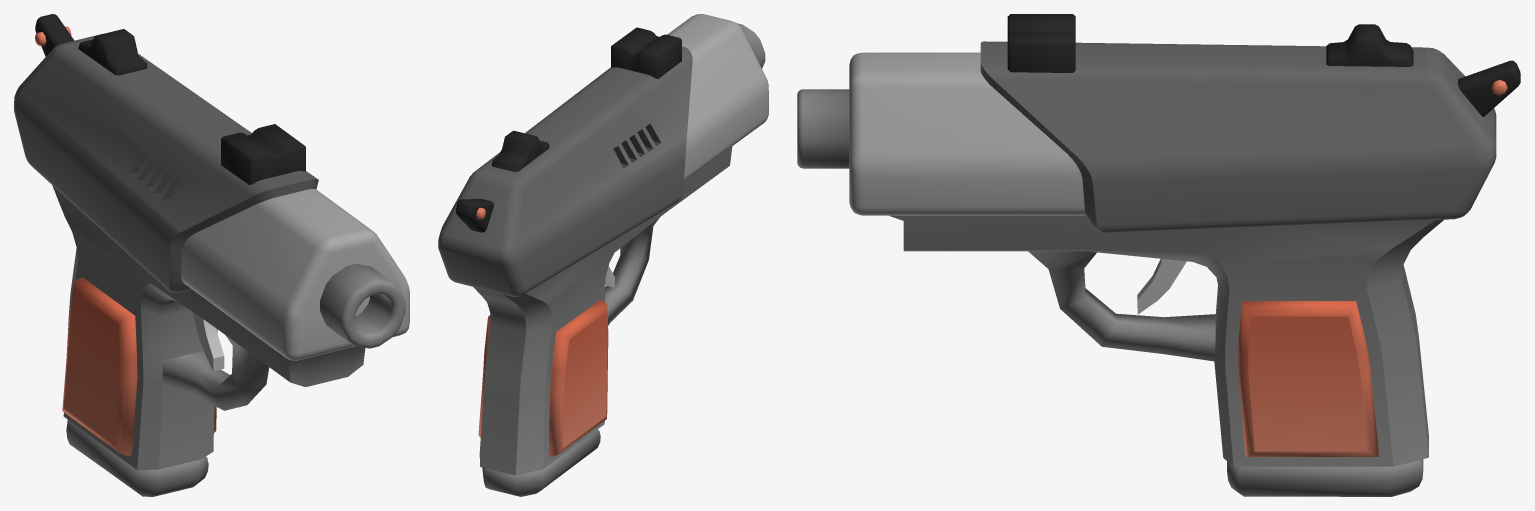
Rendered from Pistol.fbx.
The picture shows the model from 3 angles, left to right: view 1: azimuth 30°, elevation 25°; view 2: azimuth 150°, elevation 25°; view 3: azimuth 270°, elevation 25°; orthographic projection. The views are drawn at different scales.
Visible parts, largest first — view 1: Pistol01, Pistol01.Magazine; view 2: Pistol01, Pistol01.Magazine; view 3: Pistol01, Pistol01.Magazine.
Boxes of the visible parts, x1,y1,x2,y2 form: Pistol01: (14,14,409,470); Pistol01.Magazine: (66,419,208,496); Pistol01: (438,14,768,475); Pistol01.Magazine: (482,429,600,496); Pistol01: (797,14,1520,466); Pistol01.Magazine: (1227,459,1423,496).
Bounding box in the file's own units: 0.0724 × 0.2977 × 0.2072.
